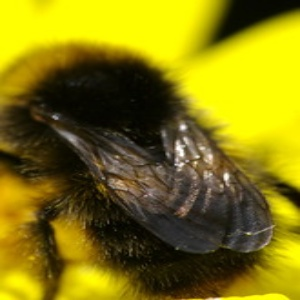bee: (13, 45, 285, 295)
